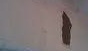Corrosion: (61, 11, 73, 46)
